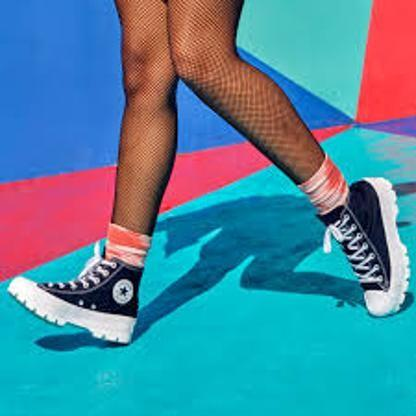not trash: (304, 171, 416, 331), (7, 256, 152, 352)
